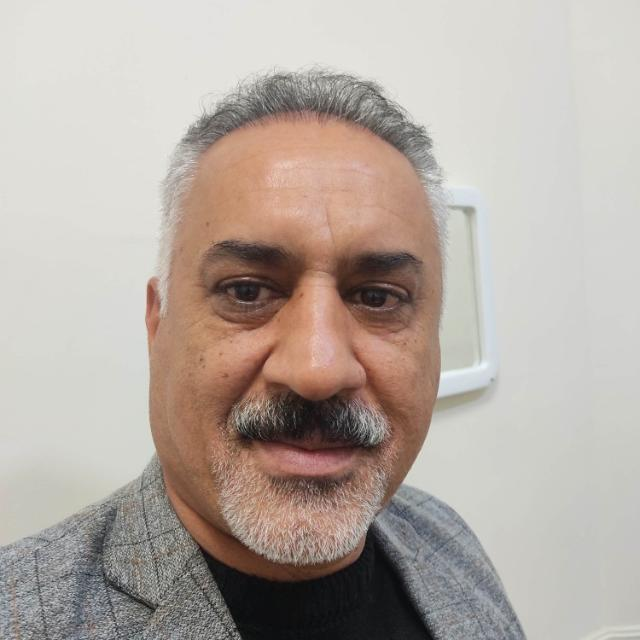forehead: (322, 206, 338, 246)
frown_line: (310, 264, 338, 280)
gummy_smile: (232, 346, 264, 412)
